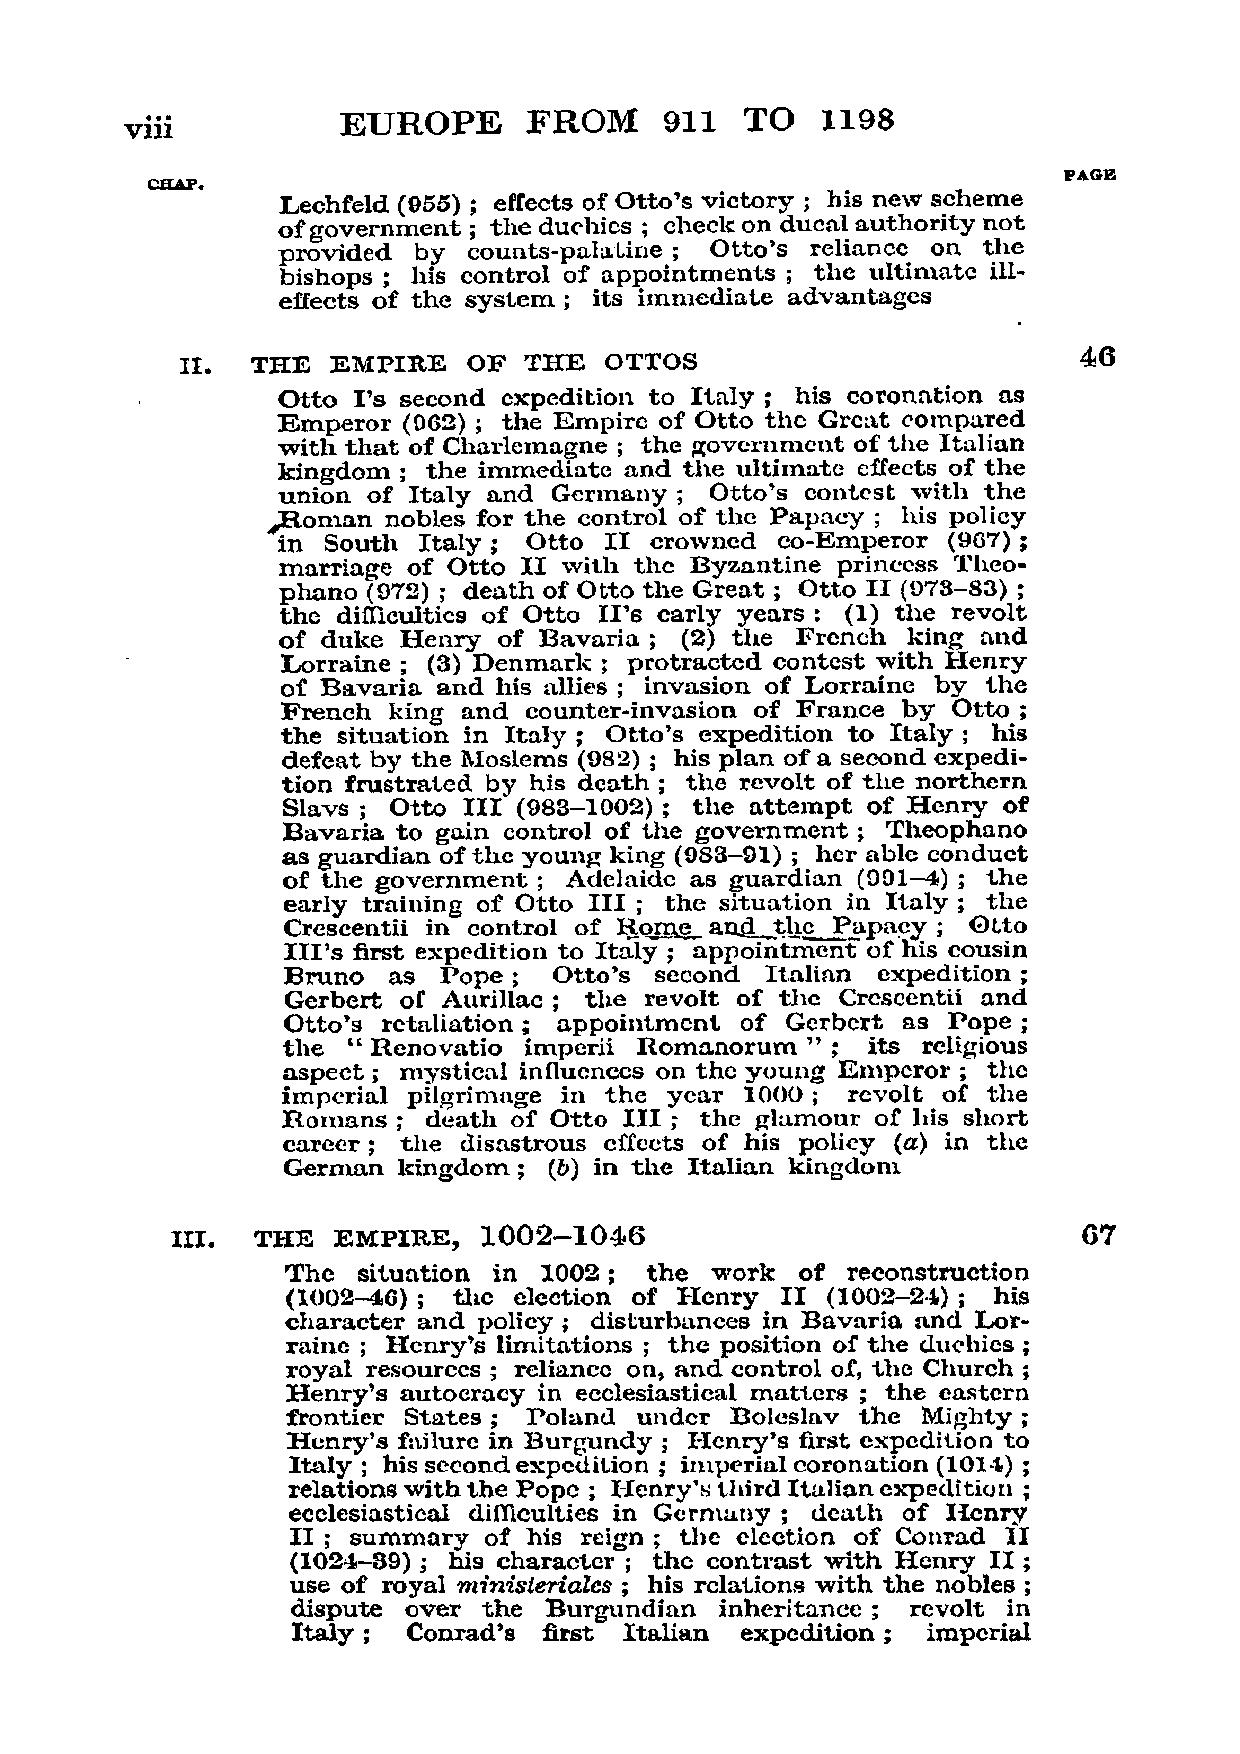TOC_chapter: (170, 340, 1031, 1184), (156, 1221, 1039, 1656), (270, 187, 1031, 315)
TOC_pagenumber: (1072, 1212, 1126, 1255), (1072, 331, 1117, 376)
chapter: (329, 89, 903, 140)
